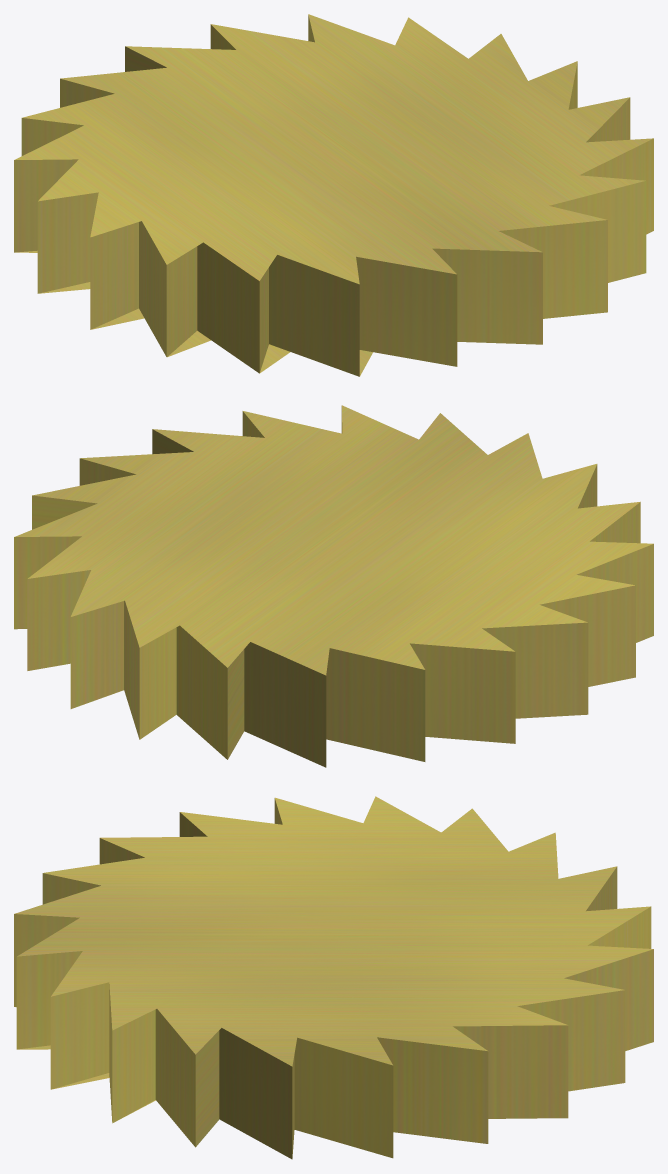
Rendered from ClockAngle5Spoke020.fbx.
The picture shows the model from 3 angles, top to bottom: view 1: azimuth 30°, elevation 25°; view 2: azimuth 150°, elevation 25°; view 3: azimuth 270°, elevation 25°; orthographic projection.
Parts seen in each view (by area): view 1: ClockAngle5Spoke020; view 2: ClockAngle5Spoke020; view 3: ClockAngle5Spoke020.
Part boxes in pixels (<box>): ClockAngle5Spoke020: <box>14,14,653,376</box>; ClockAngle5Spoke020: <box>14,405,653,767</box>; ClockAngle5Spoke020: <box>14,796,653,1159</box>.
Size of the model in its own units: 123 by 19.69 by 123.
